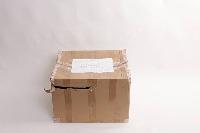damaged package: (47, 82, 93, 93)
undamaged: (47, 47, 131, 126)
